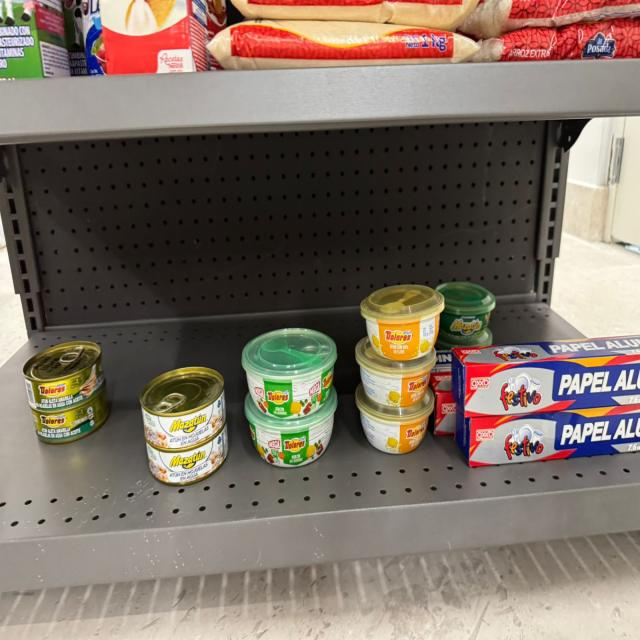ATUN DOLORES EN ACEITE 130GRS: (20, 340, 105, 412), (30, 380, 112, 446)
Arroz La Posada 900 gr: (477, 18, 640, 62)
Atun Mazatun Agua Sin Soya 130grs: (139, 365, 226, 453), (145, 419, 229, 488)
Azucar Estandar La Posada 1 kg: (205, 19, 482, 69), (229, 0, 483, 31)
CARNATION Leche Evaporada 720g: (98, 0, 212, 75)
DOLORES ENSALADA CON VERDURAS MAXI CUP CAN 240gr: (241, 327, 338, 419), (243, 385, 339, 470)
Dolores SURFY Cup Can Elotitos 24135 gr: (361, 283, 445, 360), (354, 334, 437, 408), (354, 382, 436, 455)
Ensalada Atun Mazatun CupCan: (434, 281, 496, 342), (437, 326, 493, 347)
La Lechera Sirve Facil 335gr Bote: (80, 0, 107, 76)
Papel aluminio festivo rollo 76 m X 30 cm pz: (452, 334, 640, 419), (453, 403, 640, 467), (429, 372, 457, 436)
